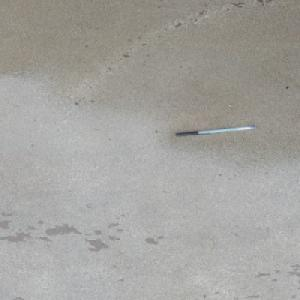Pen: (175, 125, 258, 136)
